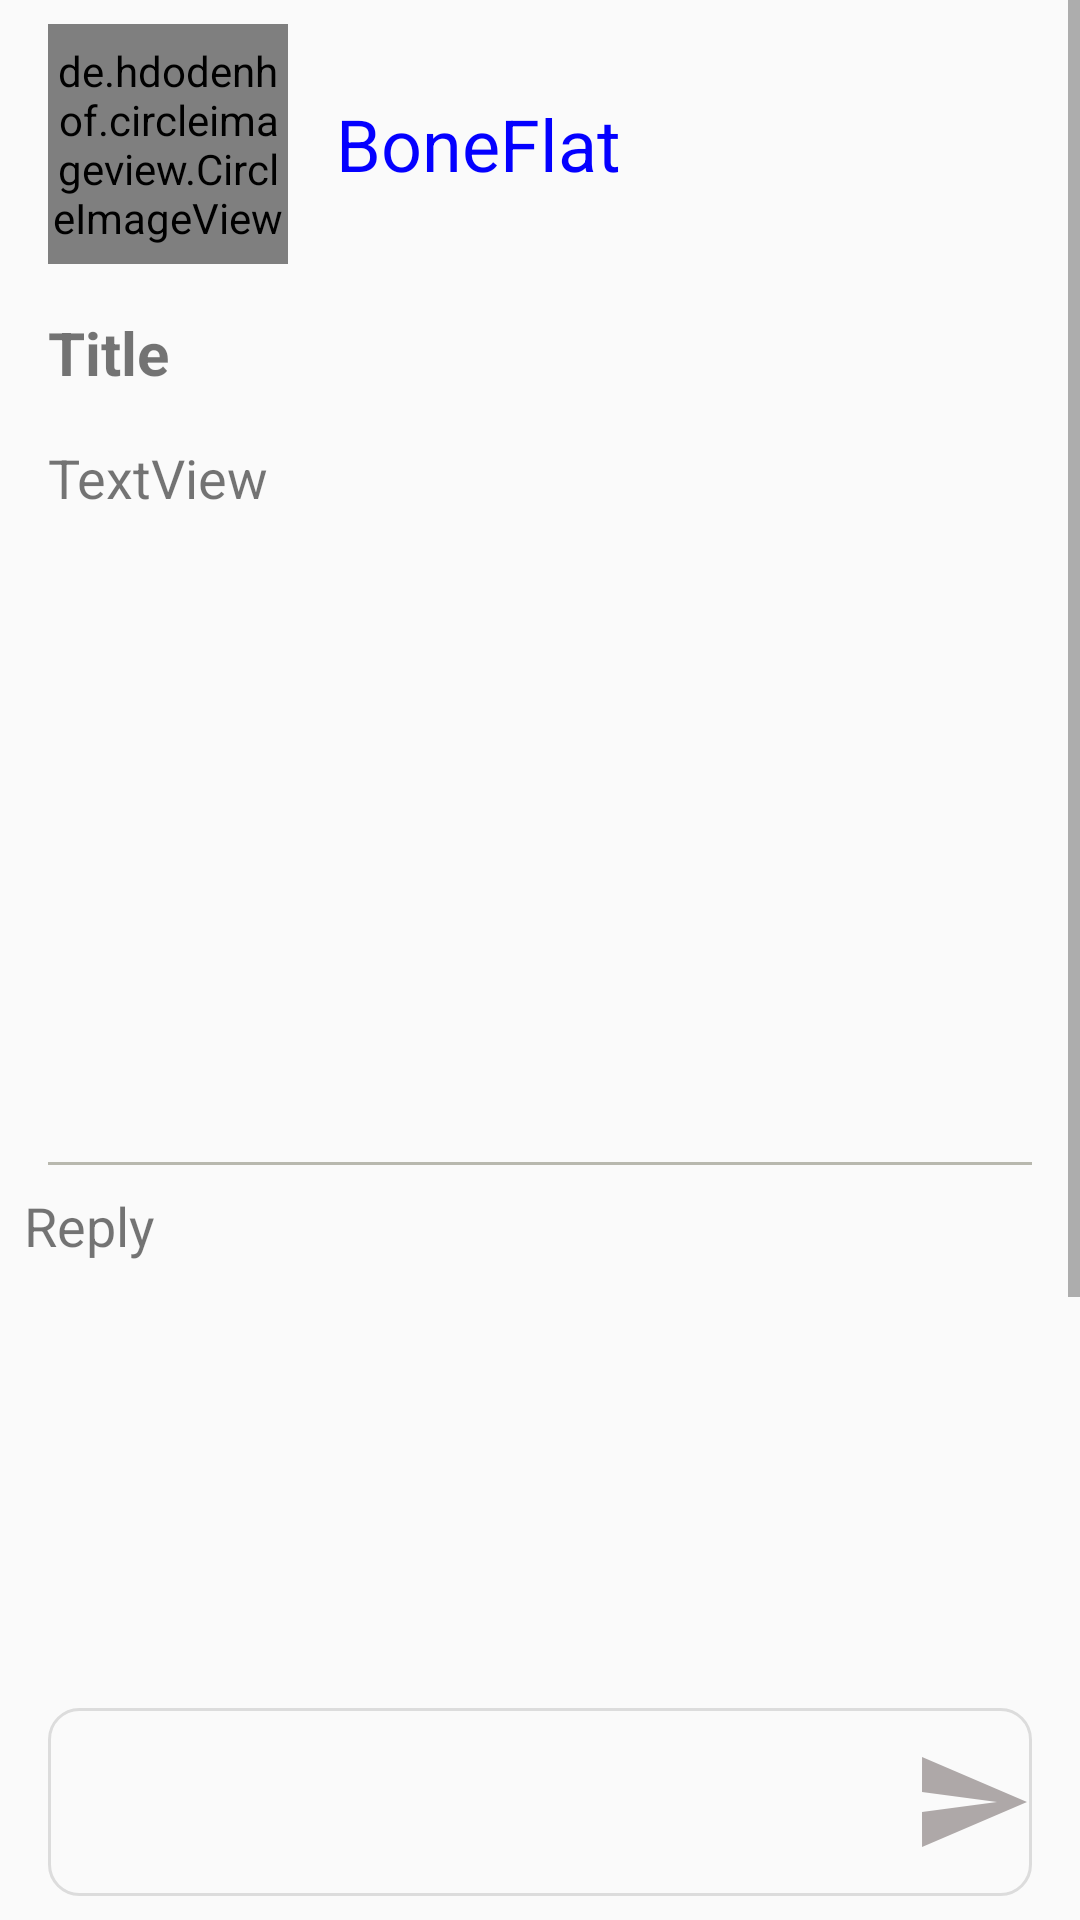

Icons on this 1080 x 1920 Android screen, each with the point to tap as point (x, y):
send: point (974, 1802)
